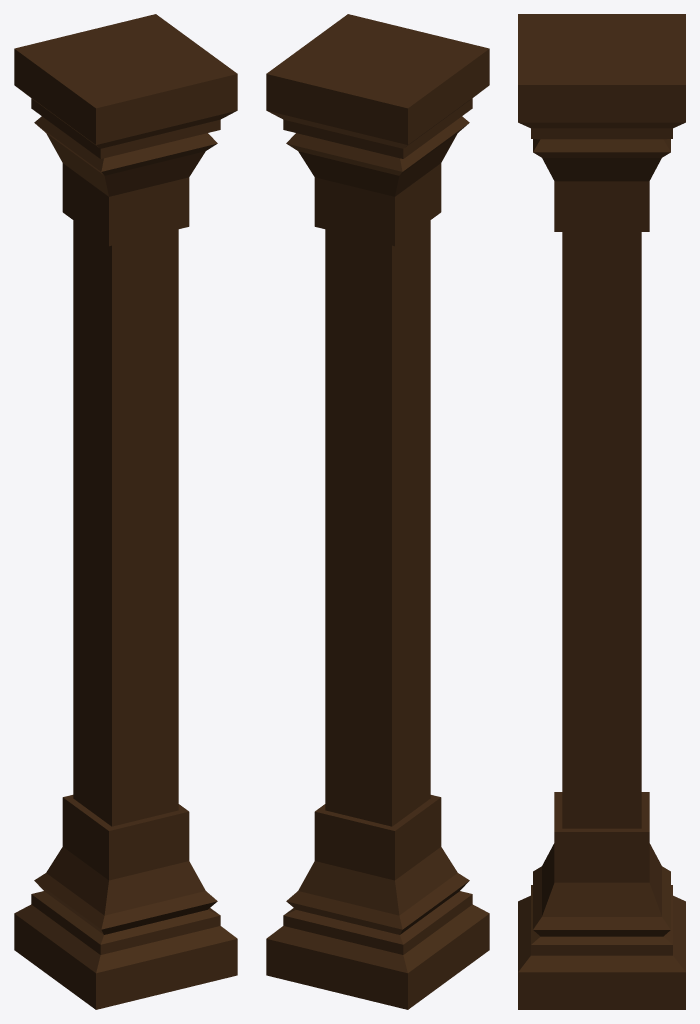
The model's file is Bannister01.fbx.
The picture shows the model from 3 angles, left to right: view 1: azimuth 30°, elevation 25°; view 2: azimuth 150°, elevation 25°; view 3: azimuth 270°, elevation 25°; orthographic projection. The views are drawn at different scales.
Visible parts, largest first — view 1: Cube; view 2: Cube; view 3: Cube.
Part boxes in pixels (box(x1,y1,x2,y2)): Cube: box(14, 14, 237, 1009); Cube: box(266, 14, 489, 1009); Cube: box(518, 14, 685, 1009).
Size of the model in its own units: 56.08 by 341 by 56.08.
